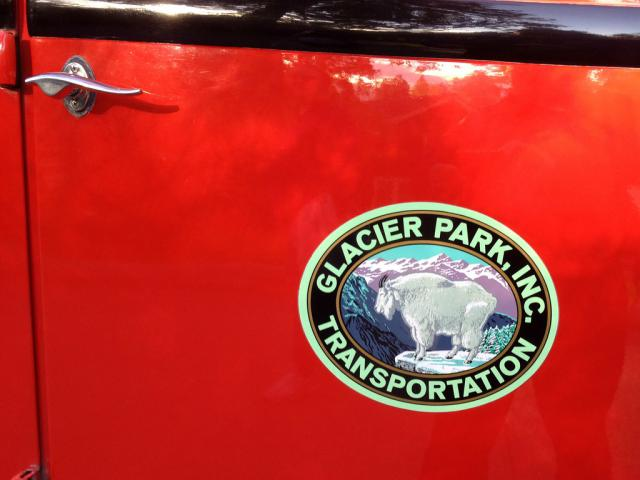Door-handle: (21, 52, 146, 120)
